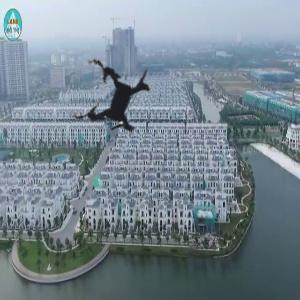drone: (43, 29, 187, 173)
